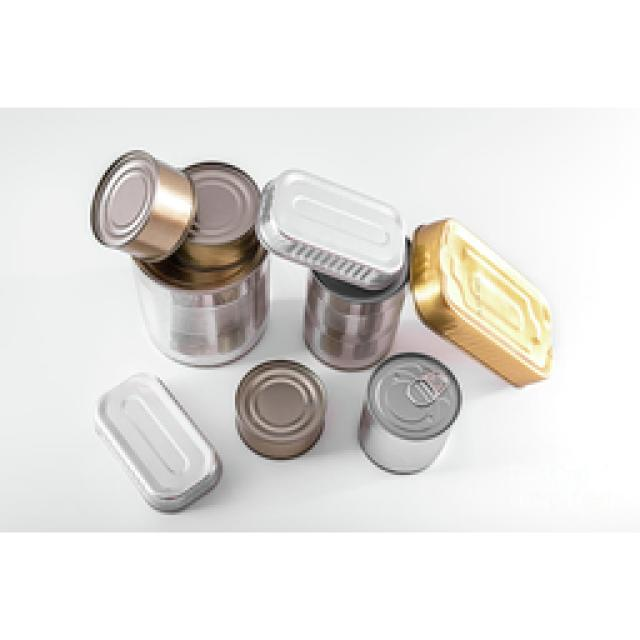alumunium: (90, 150, 550, 470), (100, 375, 218, 510), (235, 360, 322, 458)
